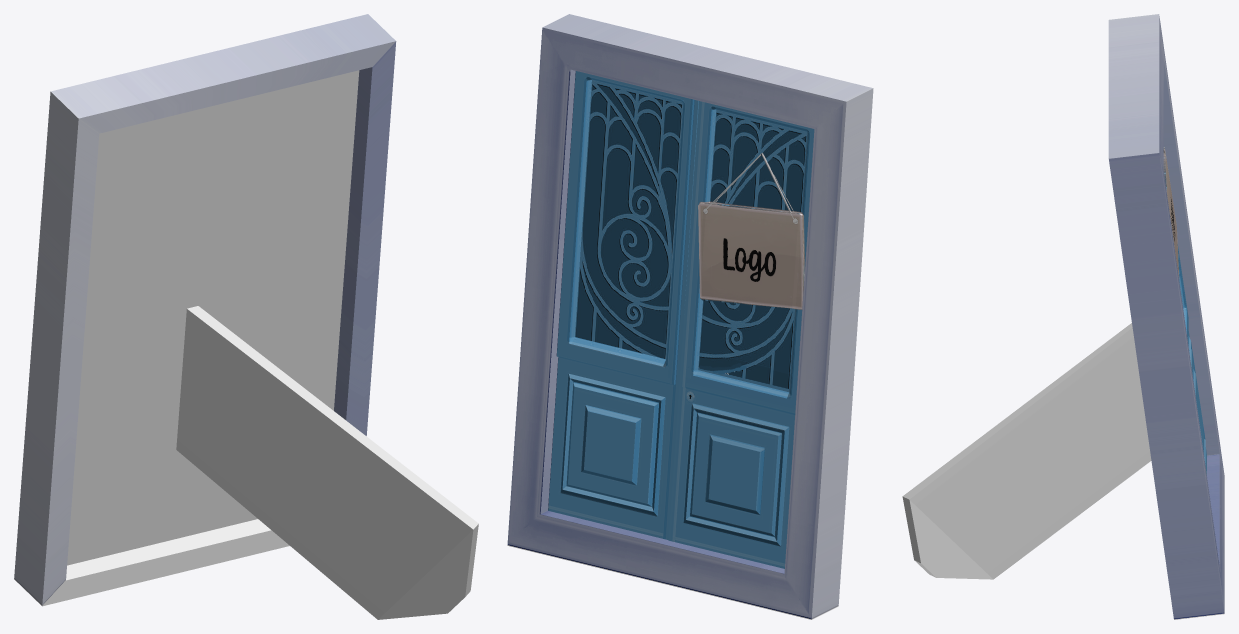
The model's file is Door_1.fbx.
3 renders of one model, left to right at view 1: azimuth 30°, elevation 25°; view 2: azimuth 150°, elevation 25°; view 3: azimuth 270°, elevation 25°, orthographic. The views are drawn at different scales.
Visible parts, largest first — view 1: Cube; view 2: Cube, Cube.001, Cube.002; view 3: Cube, Cube.002.
Boxes of the visible parts, x1,y1,x2,y2 form: Cube: [14, 14, 478, 619]; Cube: [507, 14, 873, 619]; Cube.001: [548, 71, 698, 539]; Cube.002: [668, 101, 814, 568]; Cube: [902, 14, 1224, 619]; Cube.002: [1163, 147, 1206, 474].
Bounding box in the file's own units: 156 × 244 × 153.
